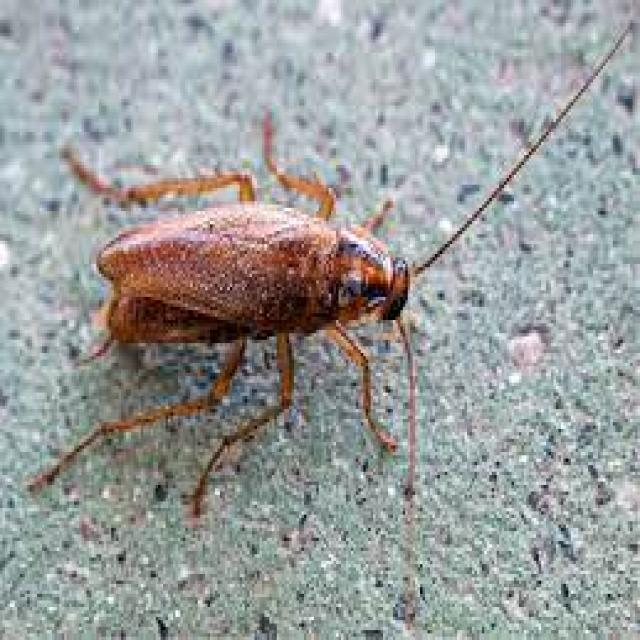Cockroach: (24, 110, 490, 510)
